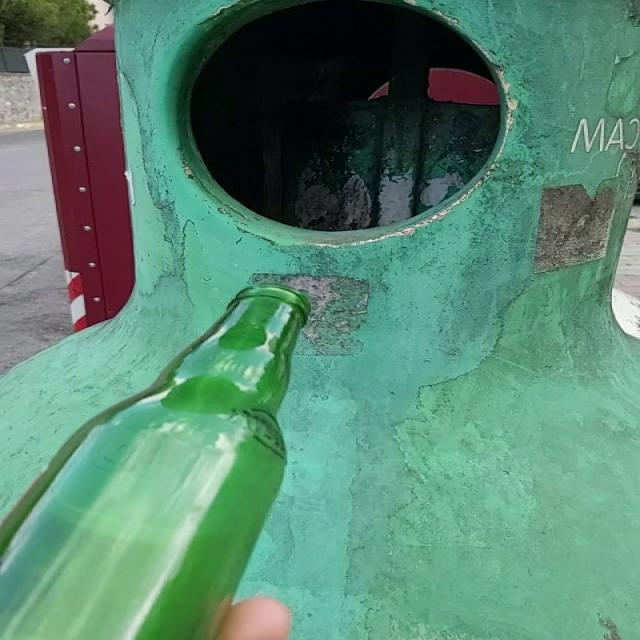glass: (0, 285, 309, 640)
